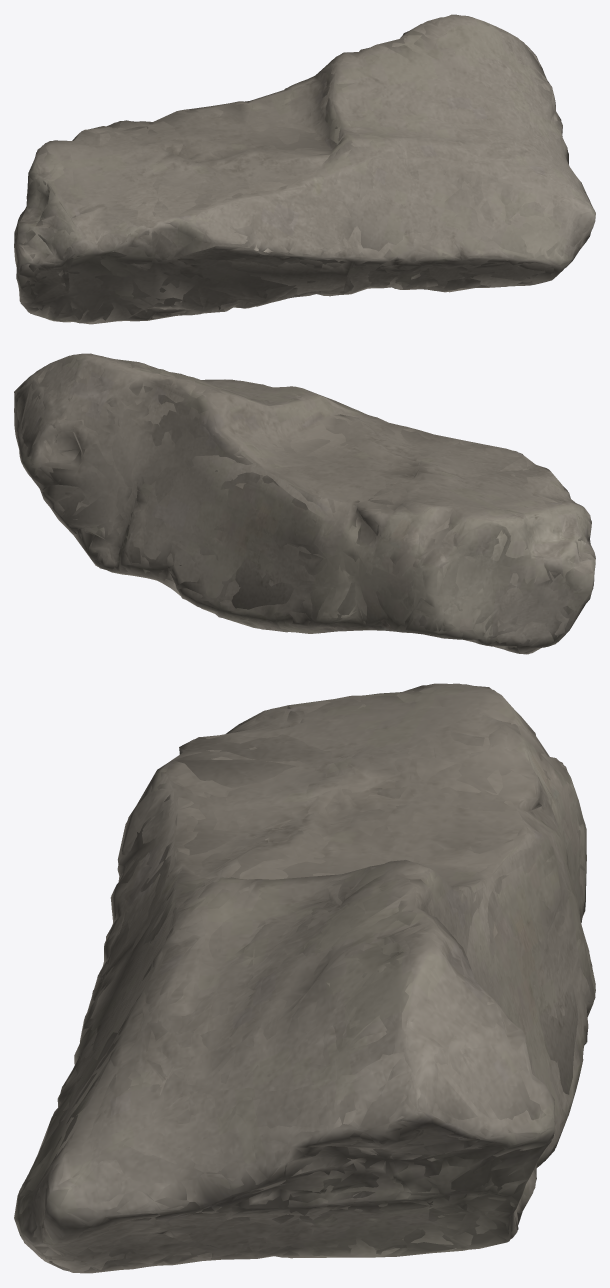
The model's file is moon_rock_01-transformed.glb.
3 renders of one model, top to bottom at view 1: azimuth 30°, elevation 25°; view 2: azimuth 150°, elevation 25°; view 3: azimuth 270°, elevation 25°, orthographic. The views are drawn at different scales.
Parts seen in each view (by area): view 1: moon_rock_01_LOD0; view 2: moon_rock_01_LOD0; view 3: moon_rock_01_LOD0.
Part boxes in pixels (<box>): moon_rock_01_LOD0: <box>14,14,595,324</box>; moon_rock_01_LOD0: <box>14,353,595,654</box>; moon_rock_01_LOD0: <box>14,683,595,1273</box>.
Bounding box in the file's own units: 0.2123 × 0.0753 × 0.1117.
1 material, 1 textured.
